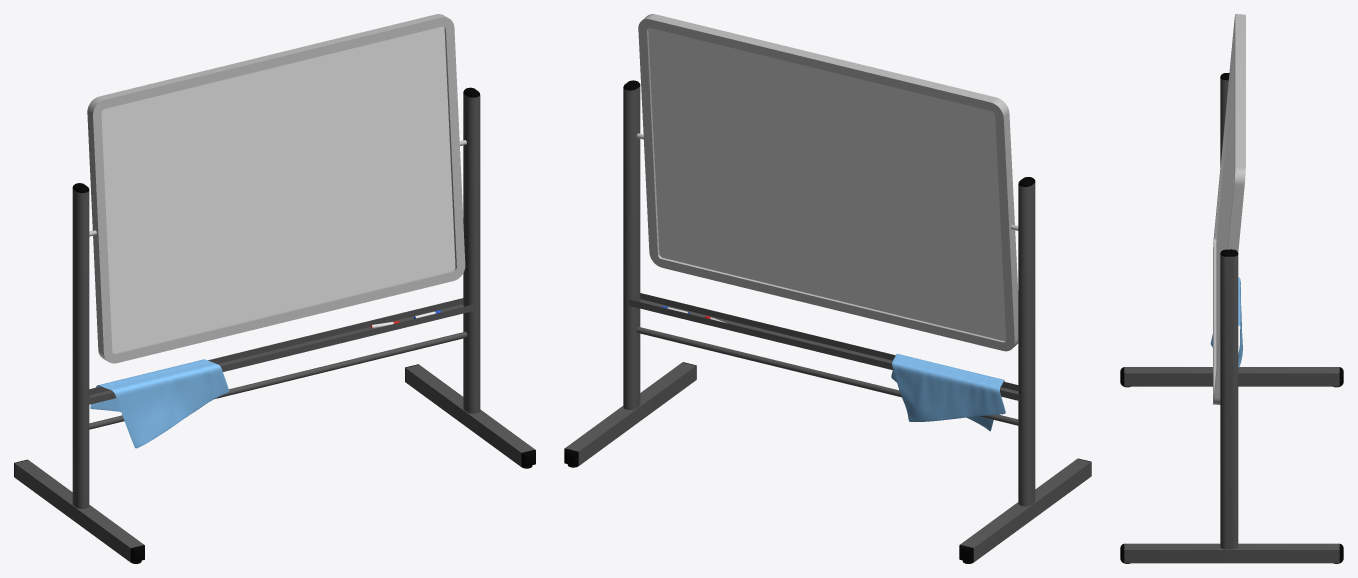
3 views of the same model, side by side, from view 1: azimuth 30°, elevation 25°; view 2: azimuth 150°, elevation 25°; view 3: azimuth 270°, elevation 25° (orthographic). The views are drawn at different scales.
Visible parts, largest first — view 1: board_3, legs_2, cloth_8, pen tray_4; view 2: board_3, legs_2, cloth_8, pen tray_4; view 3: legs_2, board_3, cloth_8.
Boxes of the visible parts, x1=… form: board_3: x1=87, y1=14, x2=466, y2=363; legs_2: x1=14, y1=87, x2=535, y2=562; cloth_8: x1=90, y1=359, x2=229, y2=448; pen tray_4: x1=87, y1=298, x2=474, y2=404; board_3: x1=636, y1=14, x2=1018, y2=351; legs_2: x1=564, y1=80, x2=1091, y2=562; cloth_8: x1=891, y1=353, x2=1005, y2=431; pen tray_4: x1=629, y1=293, x2=1020, y2=400; legs_2: x1=1120, y1=73, x2=1343, y2=563; board_3: x1=1213, y1=14, x2=1245, y2=404; cloth_8: x1=1210, y1=277, x2=1242, y2=367.
Size of the model in its own units: 8.28 by 8.07 by 4.28.
